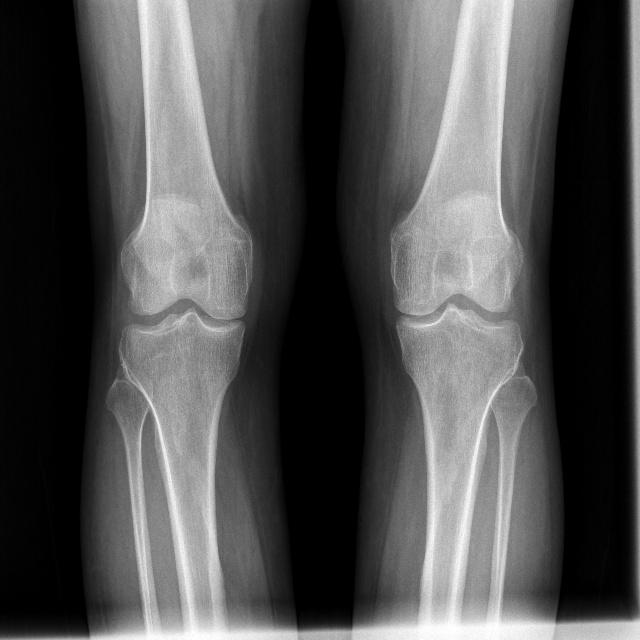Knee: (383, 235, 526, 381), (117, 232, 255, 372)
